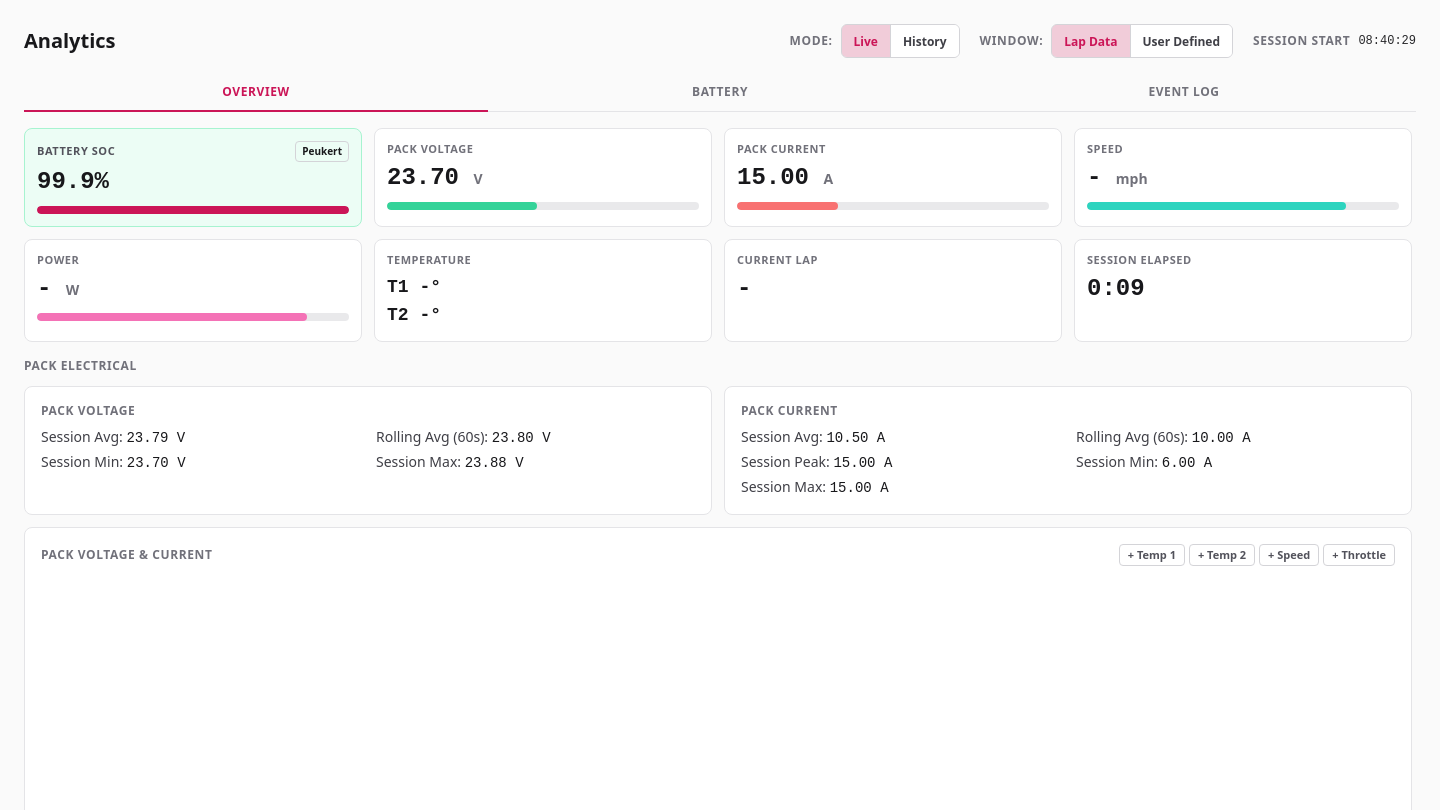
Test: AnalyticsTab › opens metric help modal from the battery card
The image size is (1440, 810).
Click the tab "Battery": (720, 93) [488, 74, 952, 112]
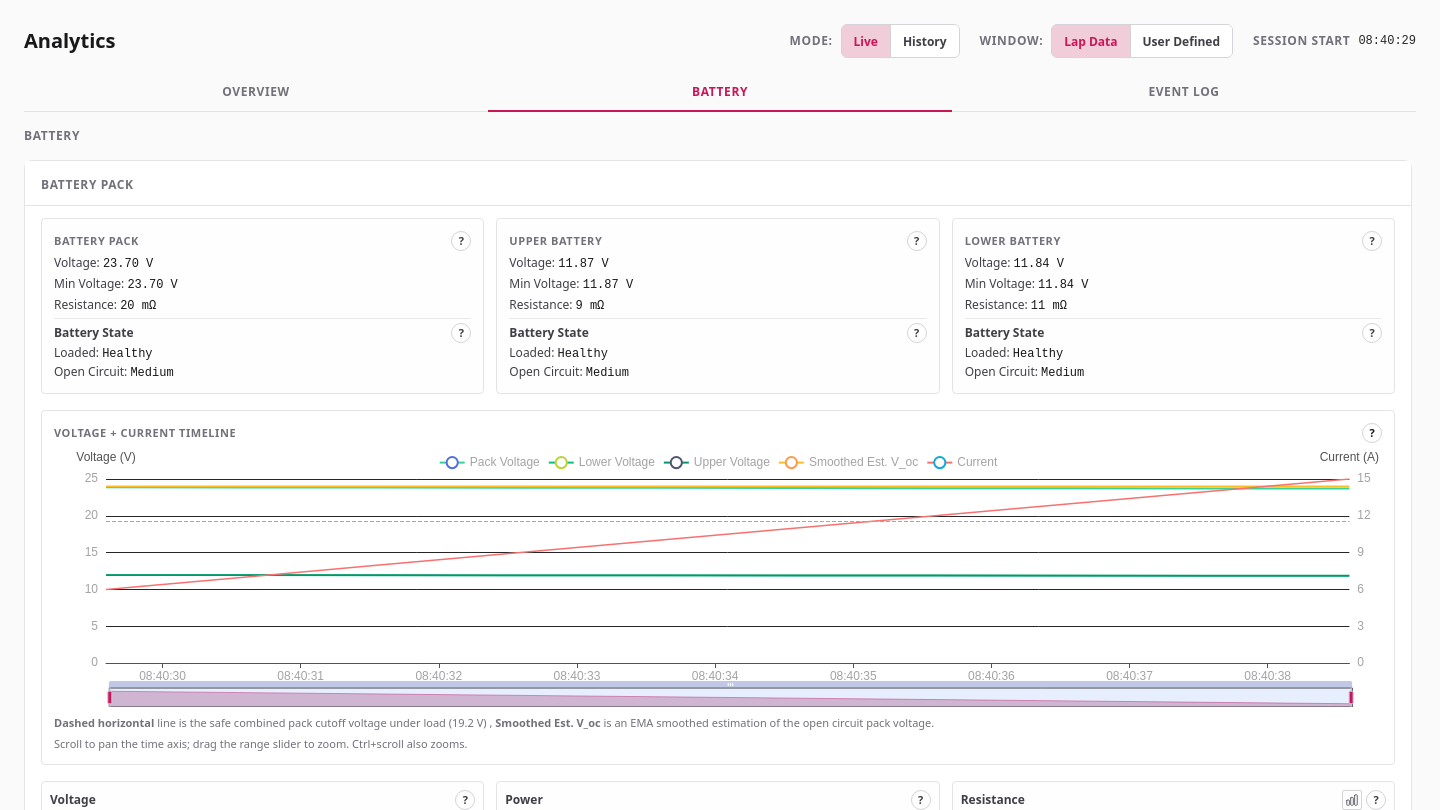
Check: the button named "Show supply resistance help" is shown
Click the button named "Show supply resistance help": (1376, 800) [1366, 790, 1386, 809]
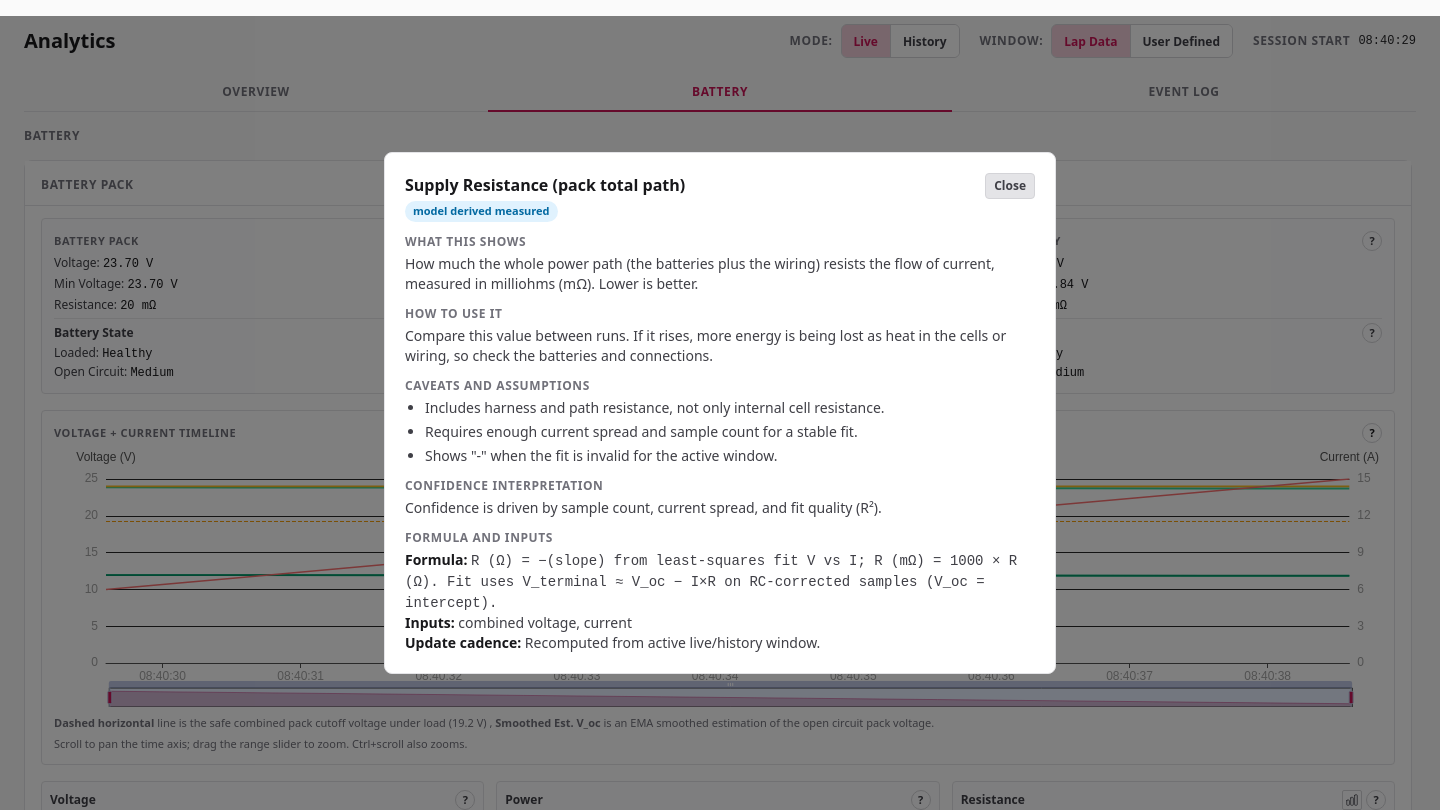
Check: the text "Supply Resistance" is shown, box [405, 174, 685, 196]
Check: the text "What this shows" is shown, box [405, 233, 526, 250]
Check: the text "How to use it" is shown, box [405, 305, 503, 322]
